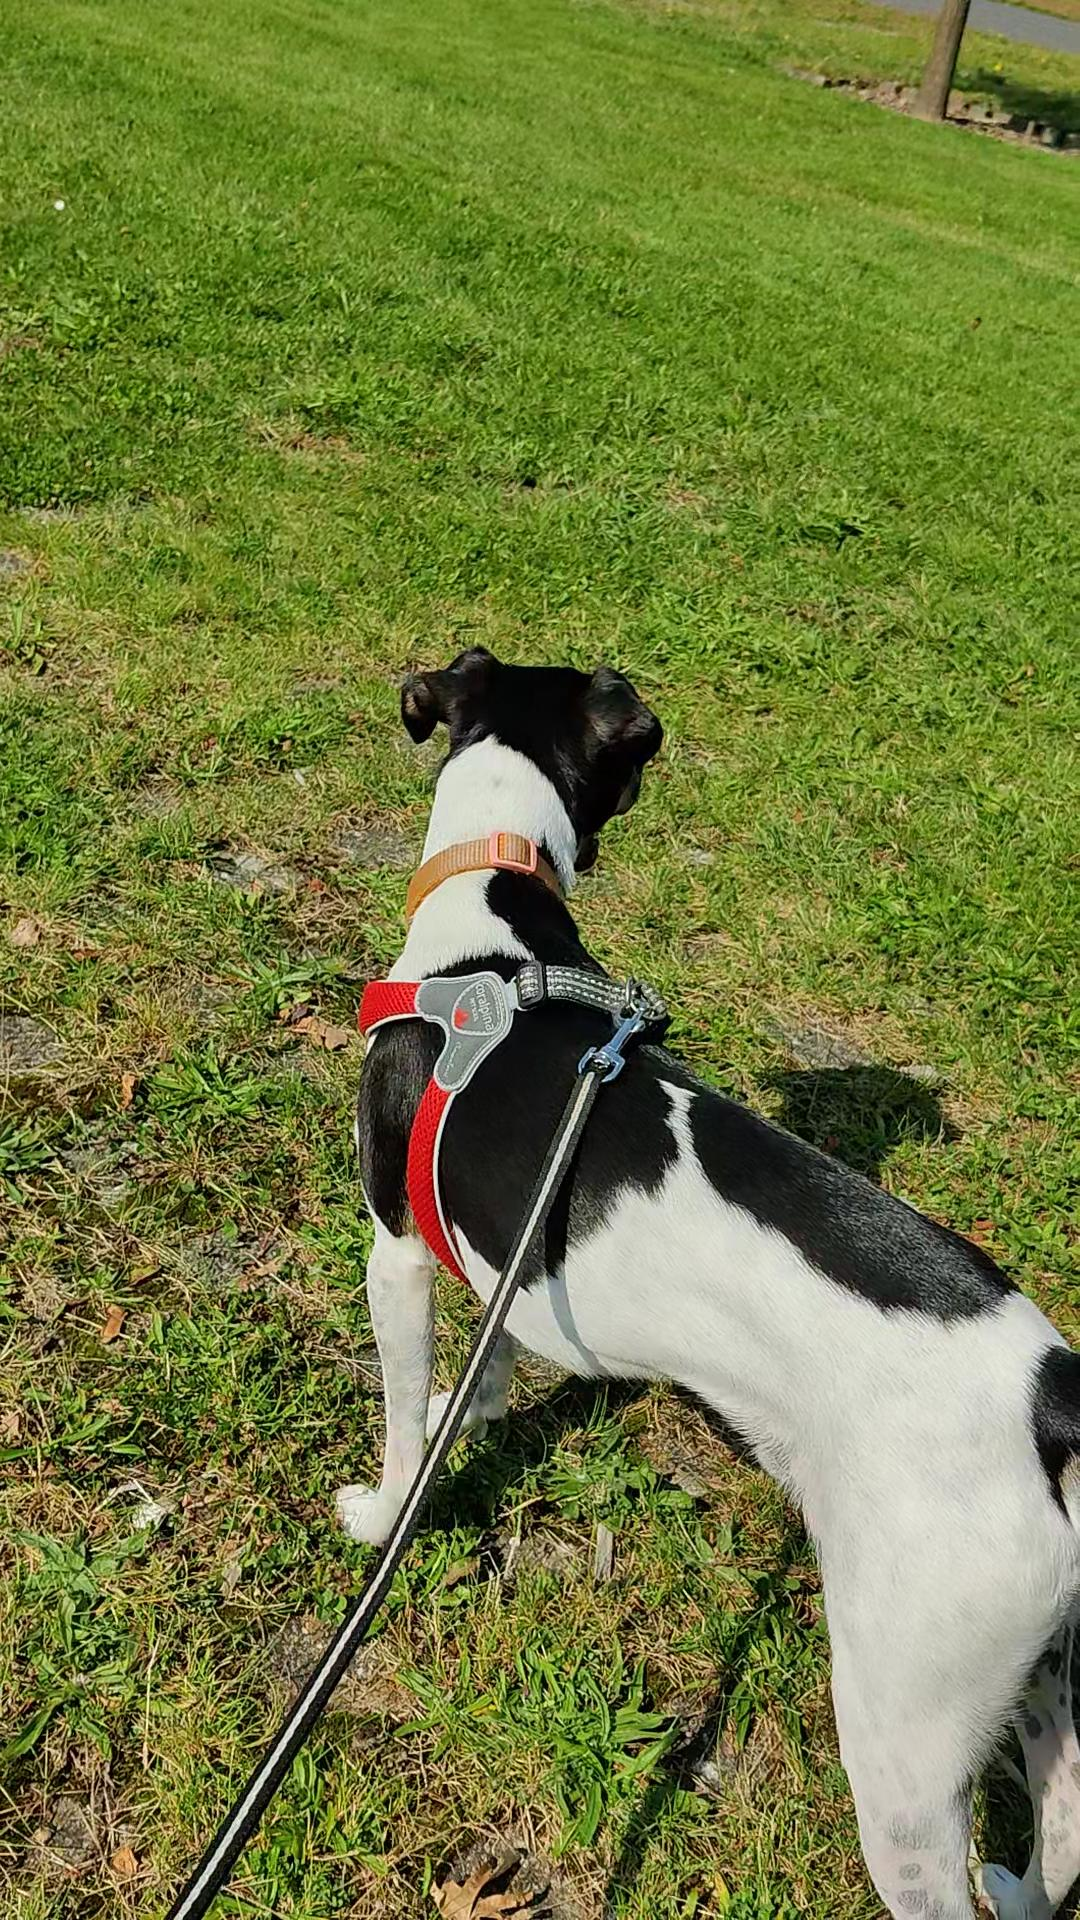Dog: (316, 633, 1079, 1919)
